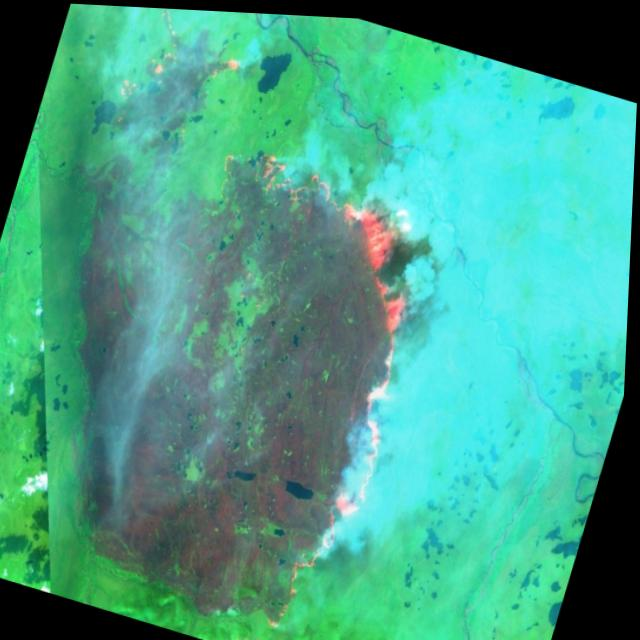fire: (133, 126, 466, 640), (102, 4, 252, 162)
